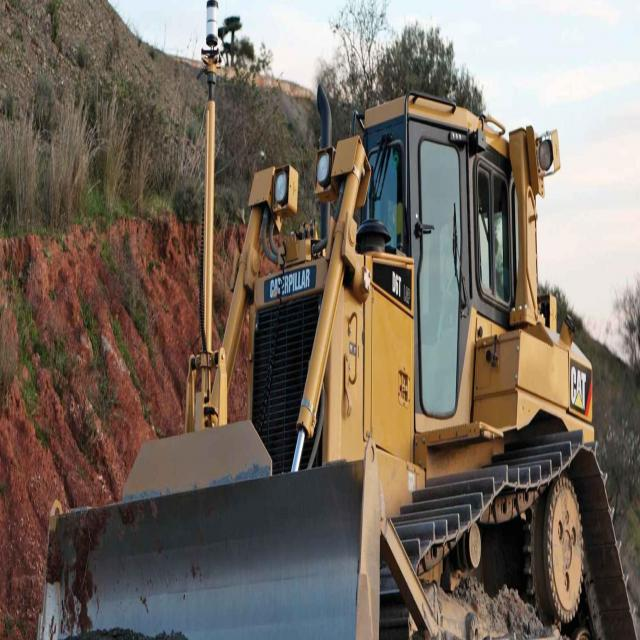Bulldozer: (21, 20, 640, 639)
